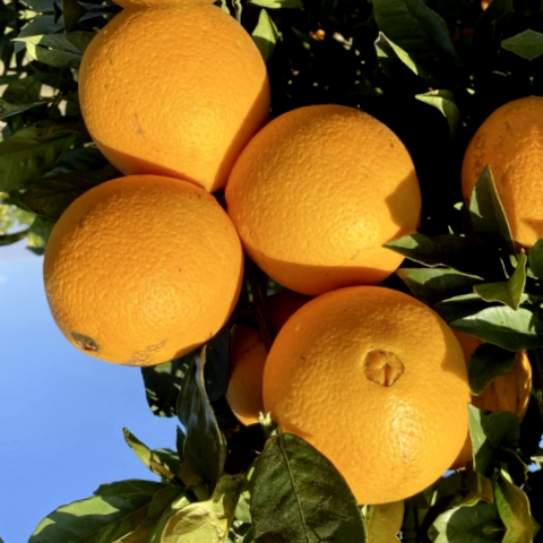orange: (233, 277, 486, 521), (50, 9, 306, 216), (215, 102, 444, 316), (15, 173, 249, 370)
